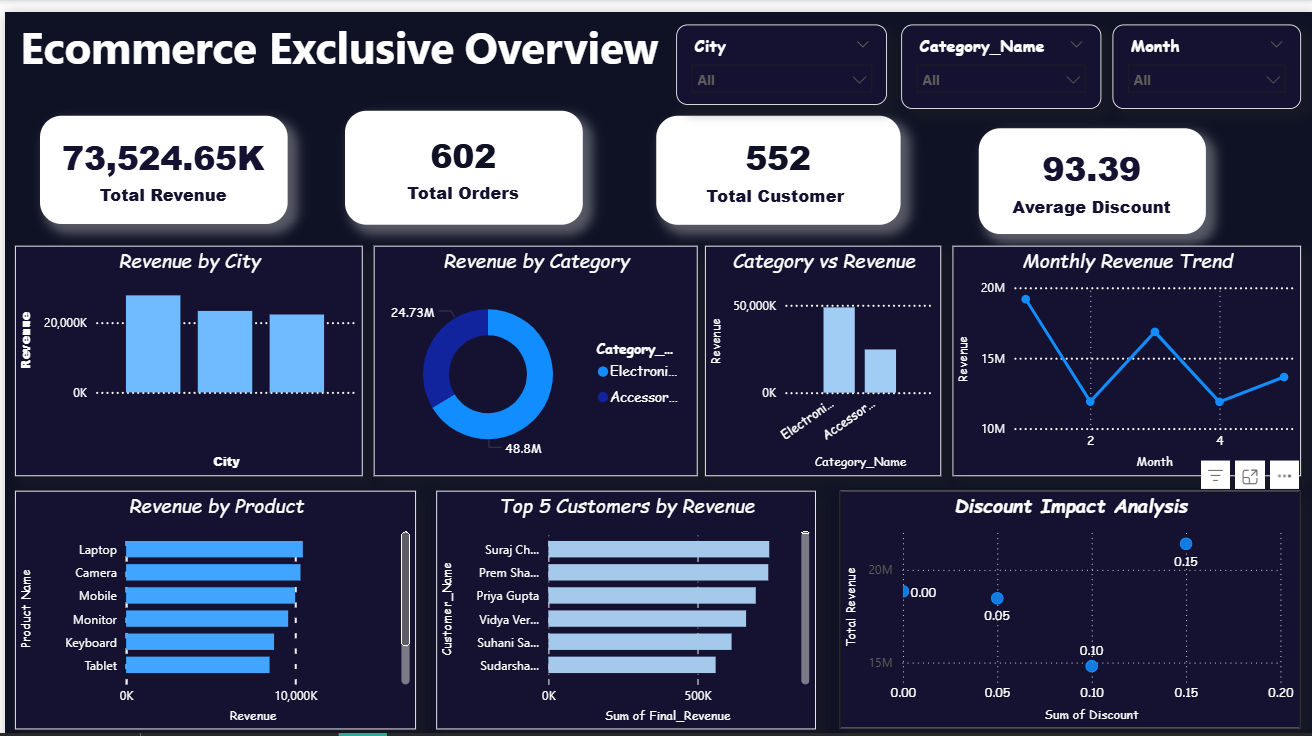

Layout of this report page (visuals, bound fields, positions):
{"tool":"powerbi","page":{"name":"Ecommerce Overview","canvas":[1280,720],"ordinal":0},"visuals":[{"type":"textbox","box":[9.6,0,644.9,79.6],"z":0},{"type":"card","fields":{"Values":["Sum(Sheet1.Final_Revenue)"]},"box":[34.3,101.5,241.5,105.7],"z":1000},{"type":"card","fields":{"Values":["CountNonNull(Sheet1.Order_ID)"]},"box":[332.1,96.1,231.9,111.1],"z":2000},{"type":"card","fields":{"Values":["Count(Sheet1.Customer_Name)"]},"box":[635,101.2,238.8,106.2],"z":3000},{"type":"card","fields":{"Values":["Avg(Sheet1.Discount_Amount )"]},"box":[950,113.6,221.6,103.4],"z":4000},{"type":"columnChart","title":"Revenue by City ","fields":{"Y":["Sum(Sheet1.Final_Revenue)"],"Category":["Sheet1.City"]},"box":[9.6,227.8,338.9,225],"z":5000},{"type":"slicer","fields":{"Values":["Sheet1.City"]},"box":[654.5,12.3,205.8,78.2],"z":6000},{"type":"slicer","fields":{"Values":["Sheet1.Category_Name"]},"box":[874.1,12.3,194.9,82.3],"z":7000},{"type":"slicer","fields":{"Values":["Sheet1.Month"]},"box":[1079.9,12.3,183.9,82.3],"z":8000},{"type":"donutChart","title":"Revenue by Category ","fields":{"Y":["Sum(Sheet1.Final_Revenue)"],"Category":["Sheet1.Category_Name"]},"box":[359.5,227.8,315.6,225],"z":9000},{"type":"lineChart","title":"Monthly Revenue Trend ","fields":{"Y":["Sum(Sheet1.Final_Revenue)"],"Category":["Sheet1.Month"]},"box":[923.9,228.2,339.9,224.5],"z":10000},{"type":"clusteredBarChart","title":"Top 5 Customers by Revenue","fields":{"Category":["Sheet1.Customer_Name"],"Y":["Sum(Sheet1.Final_Revenue)"]},"box":[420.9,467.5,370.6,233.1],"z":11000},{"type":"barChart","title":"Revenue by Product","fields":{"Y":["Sum(Sheet1.Final_Revenue)"],"Category":["Sheet1.Product_Name"]},"box":[9.8,467.5,391.4,233.1],"z":12000},{"type":"columnChart","title":"Category vs Revenue","fields":{"Category":["Sheet1.Category_Name"],"Y":["Sum(Sheet1.Final_Revenue)"]},"box":[683.4,228.2,230.7,224.5],"z":13000},{"type":"scatterChart","title":"Discount Impact Analysis","fields":{"Y":["Sum(Sheet1.Final_Revenue)"],"X":["Sheet1.Updated_Discount"]},"box":[814.7,467.5,449.1,231.9],"z":14000}]}

Visuals, with their boxes in screenshot pixels (x1, y1, x2, y2), scaled from the page's 1280x720 canvas onto the 1312x736 screenshot:
textbox: region(10, 0, 671, 81)
card - Sum(Sheet1.Final_Revenue): region(35, 104, 283, 212)
card - CountNonNull(Sheet1.Order_ID): region(340, 98, 578, 212)
card - Count(Sheet1.Customer_Name): region(651, 103, 896, 212)
card - Avg(Sheet1.Discount_Amount ): region(974, 116, 1201, 222)
"Revenue by City " columnChart: region(10, 233, 357, 463)
slicer - Sheet1.City: region(671, 13, 882, 93)
slicer - Sheet1.Category_Name: region(896, 13, 1096, 97)
slicer - Sheet1.Month: region(1107, 13, 1295, 97)
"Revenue by Category " donutChart: region(368, 233, 692, 463)
"Monthly Revenue Trend " lineChart: region(947, 233, 1295, 463)
"Top 5 Customers by Revenue" clusteredBarChart: region(431, 478, 811, 716)
"Revenue by Product" barChart: region(10, 478, 411, 716)
"Category vs Revenue" columnChart: region(700, 233, 937, 463)
"Discount Impact Analysis" scatterChart: region(835, 478, 1295, 715)
